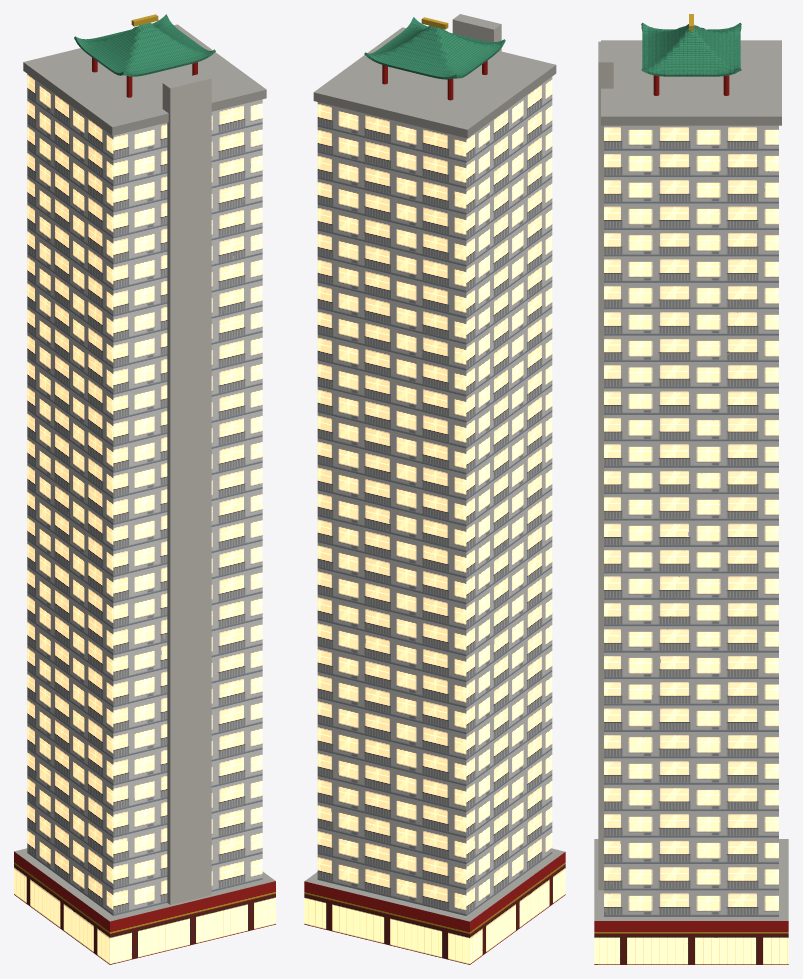
Rendered from chn_tower_c.glb.
The picture shows the model from 3 angles, left to right: view 1: azimuth 30°, elevation 25°; view 2: azimuth 150°, elevation 25°; view 3: azimuth 270°, elevation 25°; orthographic projection.
Parts seen in each view (by area): view 1: croof; view 2: croof; view 3: croof.
Boxes of the visible parts, x1,y1,x2,y2 form: croof: (14, 14, 275, 964); croof: (304, 14, 565, 964); croof: (594, 14, 788, 964).
Bounding box in the file's own units: 20 × 103 × 20.
7 materials, 3 textured.
